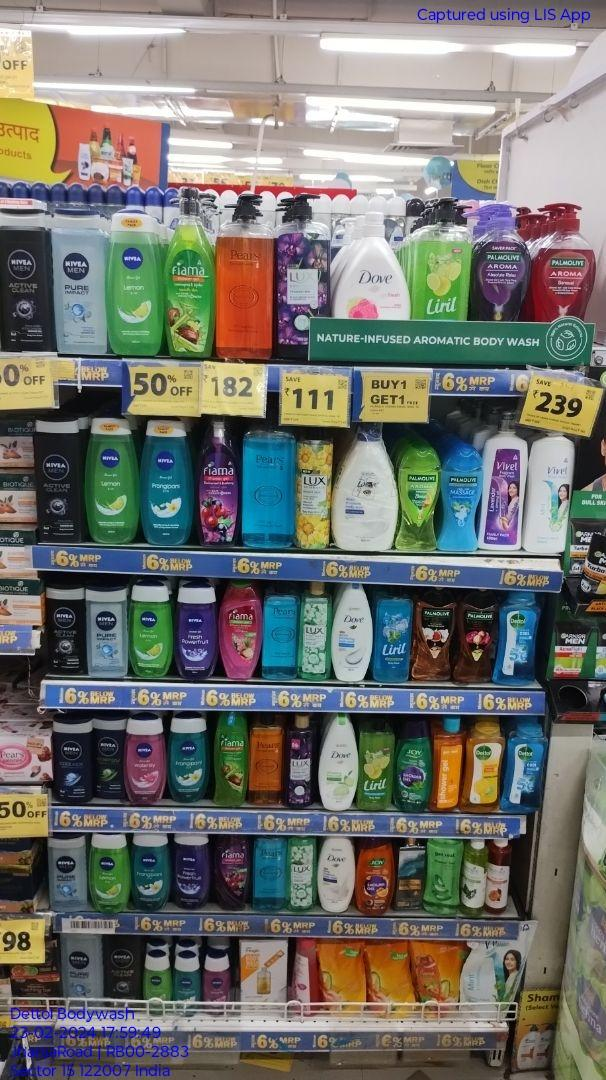Dettol_Bodywash_Cool: (504, 717, 543, 814), (497, 590, 536, 685)
Dettol_Bodywash_Refresh: (461, 719, 501, 813)
Dove_Deep_Moisture_Body_Wash_250ML: (332, 583, 372, 683), (317, 837, 351, 914)
Dove_Refreshing_Body_Wash_250ML: (317, 710, 355, 812)
Fiama_Shower_Gel_Lemongrass_and_Jojoba_250ML: (214, 712, 246, 807)
Fiama_Shower_Gel_Patchouli_and_Macadamia_250ML: (218, 582, 259, 682)
Joy_Shower_Gel_Mandarin_and_Lemongrass_250ML: (355, 839, 391, 914)
Joy_Shower_Gel_Mint_and_Eucalyptus_250ML: (397, 715, 430, 813)
Liril_Cooling_Mint_Body_Wash_250ML: (375, 581, 409, 683)
Liril_Lime_and_Tea_Tree_Oil_Body_Wash_250ML: (358, 716, 392, 810)
Lux_Black_Orchid_Scent_and_Juniper_Oil_Body_Wash_245ML: (284, 719, 313, 806)
Lux_Body_Wash_Skin_Detox_Freesia_Scent_and_Alove_Vera_245ML: (299, 581, 331, 682), (288, 837, 315, 912)
Nivea_Shower_Gel_Frangipani_and_Oil_250ML: (143, 418, 190, 547), (170, 716, 209, 804), (130, 833, 168, 911)
Nivea_Shower_Gel_Fresh_Powerfruit_250ML: (174, 585, 216, 678), (170, 830, 208, 911)
Nivea_Shower_Gel_Lemon_and_Oil_250ML: (109, 208, 157, 356), (88, 415, 136, 544), (129, 583, 172, 676), (90, 833, 128, 914)
Nivea_Shower_Gel_Waterlily_and_Oil_250ML: (125, 717, 165, 806)
Palmolive_Aroma_Moments_Feel_The_Massage_Shower_Gel_250ML: (439, 444, 480, 553)
Palmolive_Aroma_Morning_Tonic_Shower_Gel_250ML: (399, 440, 437, 553)
Palmolive_Luminous_Oils_Invigorating_Macadamia_Oil_With_Peony_250ML: (456, 586, 492, 684)
Palmolive_Luminous_Oils_With_White_Orchid_Shower_Gel_250ML: (413, 585, 453, 683)
Pears_Pure_Glycerin_and_Mint_Extracts_Body_Wash_250ML: (262, 577, 298, 681), (254, 834, 285, 912)
